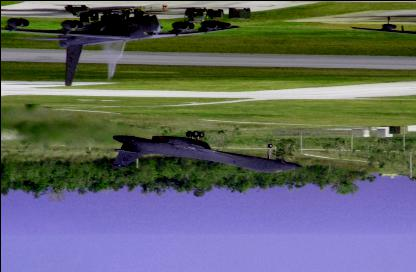AV8B: (103, 131, 301, 173)
B2: (1, 8, 240, 86)
